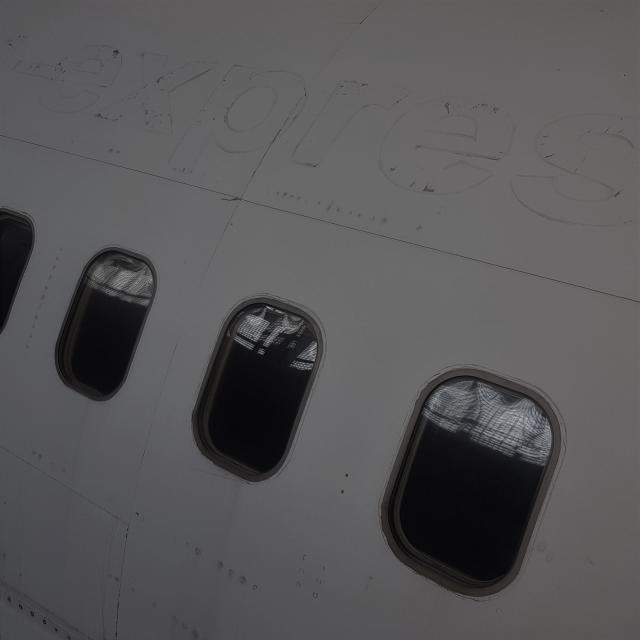crack: (215, 192, 244, 207)
